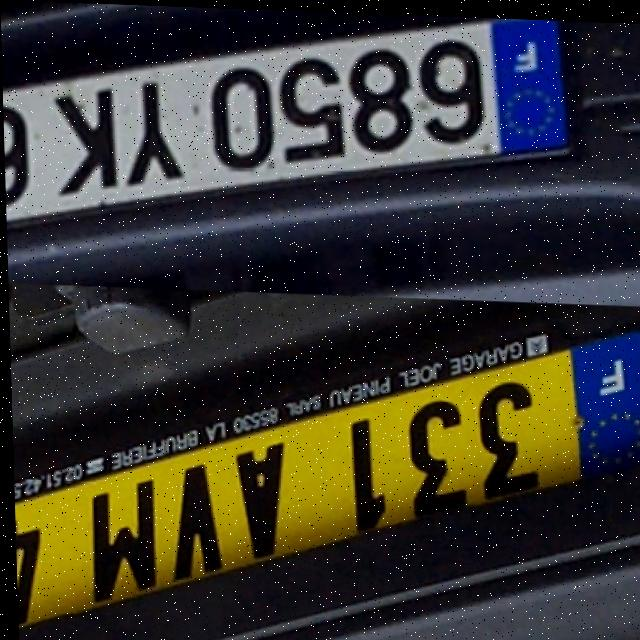plate: (7, 308, 640, 640), (0, 0, 570, 248)
